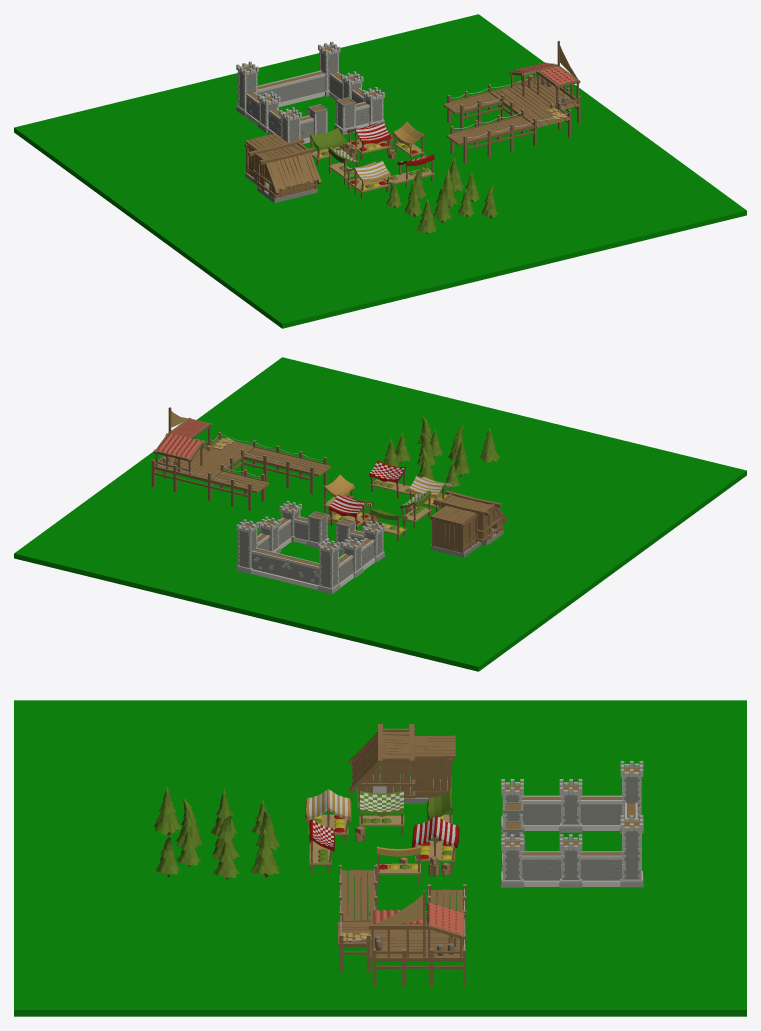
3 renders of one model, top to bottom at view 1: azimuth 30°, elevation 25°; view 2: azimuth 150°, elevation 25°; view 3: azimuth 270°, elevation 25°, orthographic. The views are drawn at different scales.
Visible parts, largest first — view 1: Box, WonderWalls_SecondAge, Port_SecondAge_Level1, Market_FirstAge_Level3, Houses_FirstAge_2_Level3, Resource_PineTree_Group; view 2: Box, WonderWalls_SecondAge, Port_SecondAge_Level1, Market_FirstAge_Level3, Houses_FirstAge_2_Level3, Resource_PineTree_Group; view 3: Box, WonderWalls_SecondAge, Port_SecondAge_Level1, Market_FirstAge_Level3, Houses_FirstAge_2_Level3, Resource_PineTree_Group.
Boxes of the visible parts, left/top/right/bottom form: Box: left=14, top=14, right=746, bottom=328; WonderWalls_SecondAge: left=236, top=41, right=385, bottom=144; Port_SecondAge_Level1: left=443, top=41, right=580, bottom=163; Market_FirstAge_Level3: left=309, top=122, right=434, bottom=198; Houses_FirstAge_2_Level3: left=244, top=133, right=321, bottom=202; Resource_PineTree_Group: left=386, top=157, right=497, bottom=233; Box: left=14, top=357, right=746, bottom=671; WonderWalls_SecondAge: left=236, top=500, right=385, bottom=594; Port_SecondAge_Level1: left=151, top=407, right=330, bottom=510; Market_FirstAge_Level3: left=323, top=460, right=452, bottom=541; Houses_FirstAge_2_Level3: left=430, top=490, right=507, bottom=557; Resource_PineTree_Group: left=383, top=415, right=499, bottom=487; Box: left=14, top=700, right=746, bottom=1016; WonderWalls_SecondAge: left=500, top=761, right=643, bottom=887; Port_SecondAge_Level1: left=338, top=865, right=466, bottom=986; Market_FirstAge_Level3: left=305, top=789, right=459, bottom=883; Houses_FirstAge_2_Level3: left=348, top=724, right=455, bottom=807; Resource_PineTree_Group: left=154, top=786, right=279, bottom=879.
Size of the model in its own units: 100 by 15.1 by 100.
